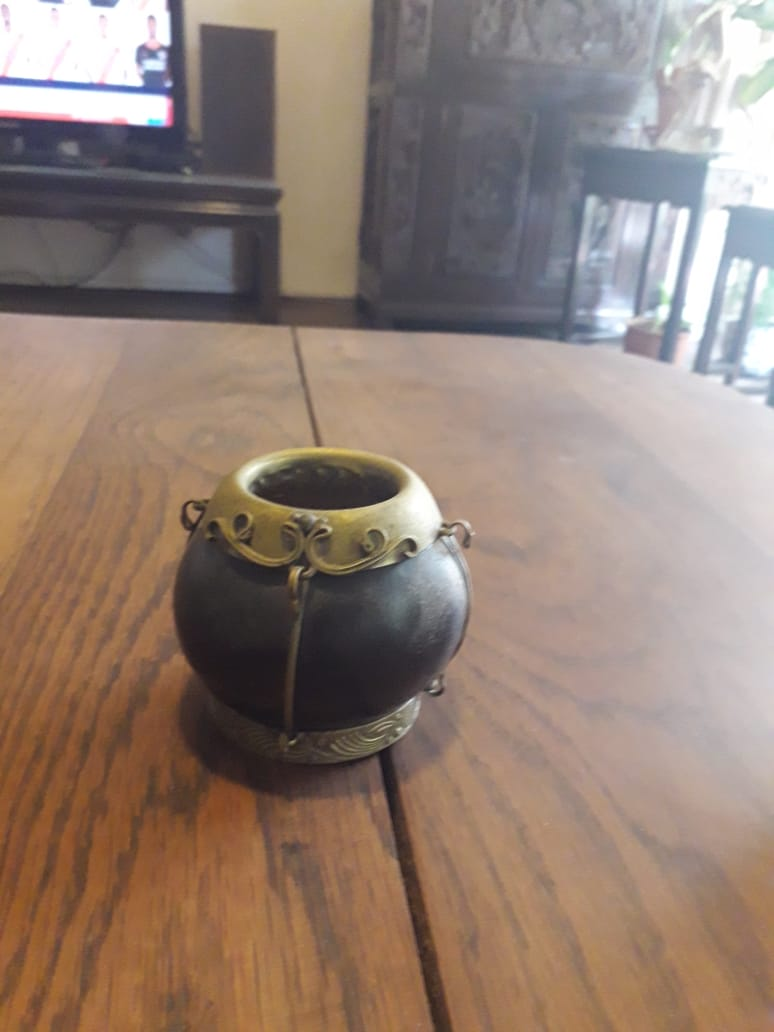calabaza: (166, 444, 474, 766)
mate: (168, 446, 476, 768)
